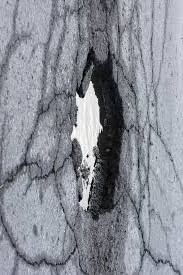pothole: (71, 43, 130, 239)
